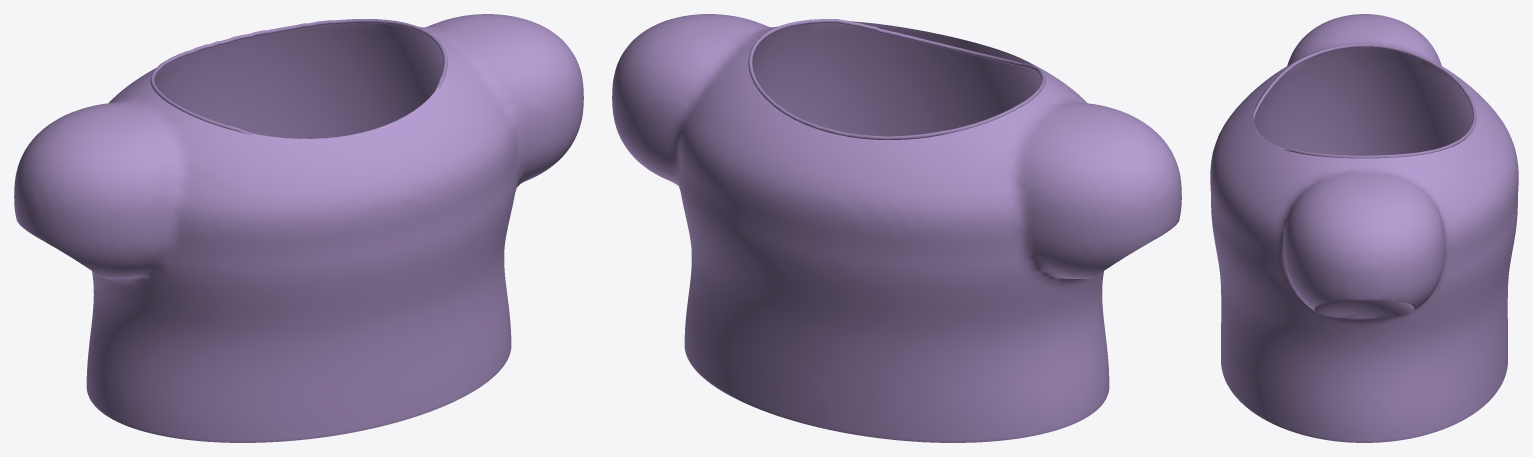
Rendered from Masculine-sweatshirt-top.glb.
3 views of the same model, side by side, from view 1: azimuth 30°, elevation 25°; view 2: azimuth 150°, elevation 25°; view 3: azimuth 270°, elevation 25° (orthographic). The views are drawn at different scales.
Visible parts, largest first — view 1: Clothing / sweatshirt, sweatshirt neck binding export; view 2: Clothing / sweatshirt, sweatshirt neck binding export; view 3: Clothing / sweatshirt, sweatshirt neck binding export.
Boxes of the visible parts, bbox=[...] form: Clothing / sweatshirt: bbox=[14, 14, 583, 442]; sweatshirt neck binding export: bbox=[150, 19, 447, 134]; Clothing / sweatshirt: bbox=[612, 14, 1181, 442]; sweatshirt neck binding export: bbox=[748, 19, 1045, 139]; Clothing / sweatshirt: bbox=[1210, 14, 1518, 442]; sweatshirt neck binding export: bbox=[1253, 44, 1476, 158].
Size of the model in its own units: 1.06 by 0.558 by 0.5947.
